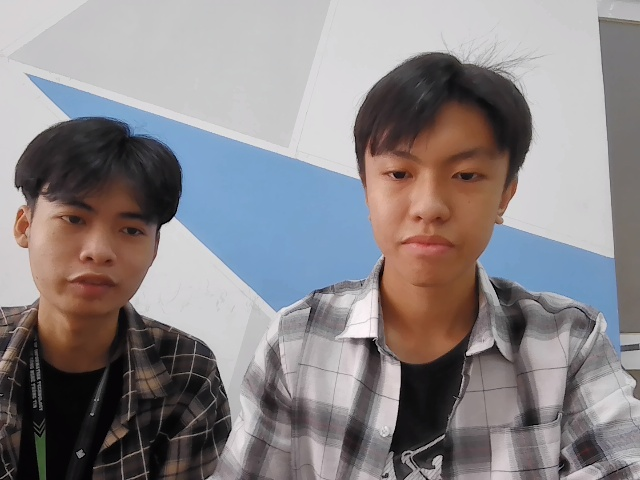human: (350, 44, 527, 279), (12, 108, 190, 322)
